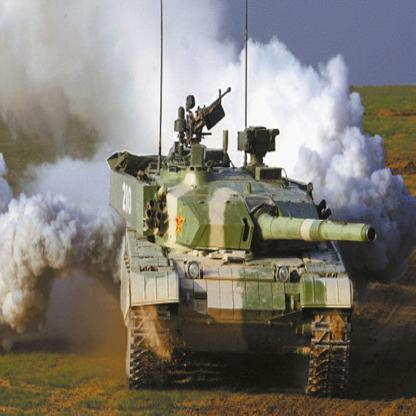Tank: (104, 73, 383, 403)
